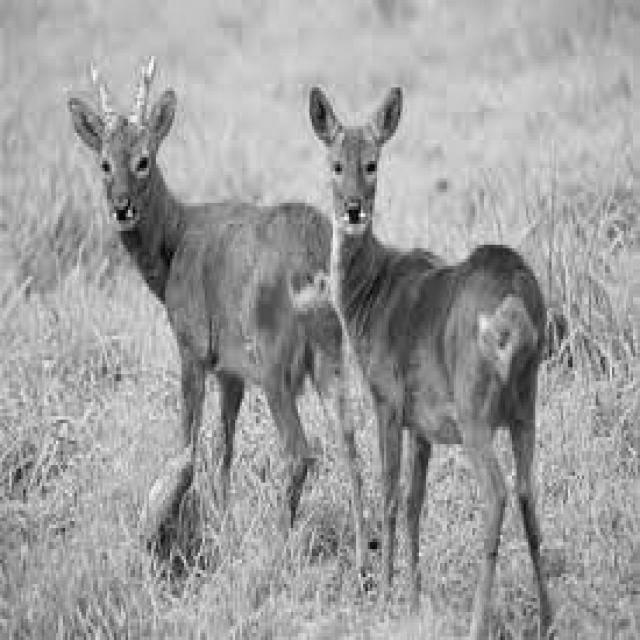Deer: (299, 62, 607, 634), (81, 65, 341, 521)
